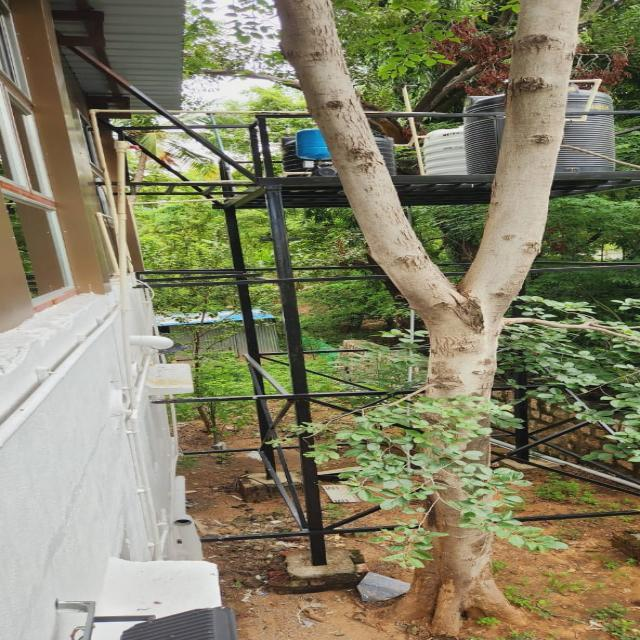Coconut-tree: (167, 135, 211, 195)
